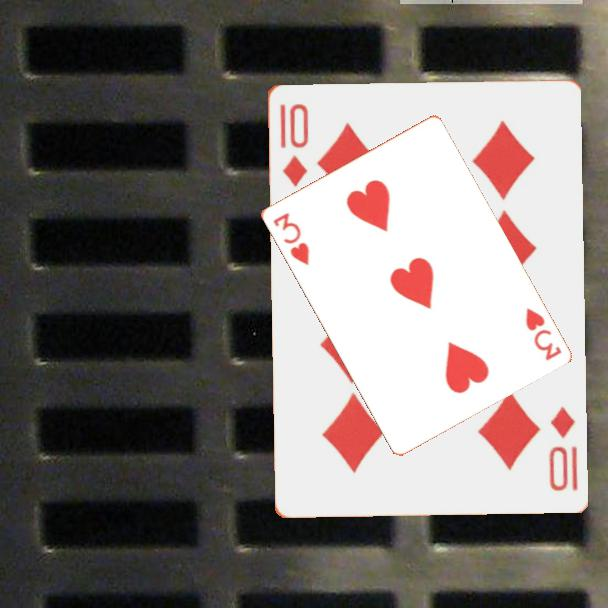d10: (545, 402, 580, 494), (276, 100, 311, 189)
h03: (269, 209, 312, 268), (522, 304, 564, 364)
